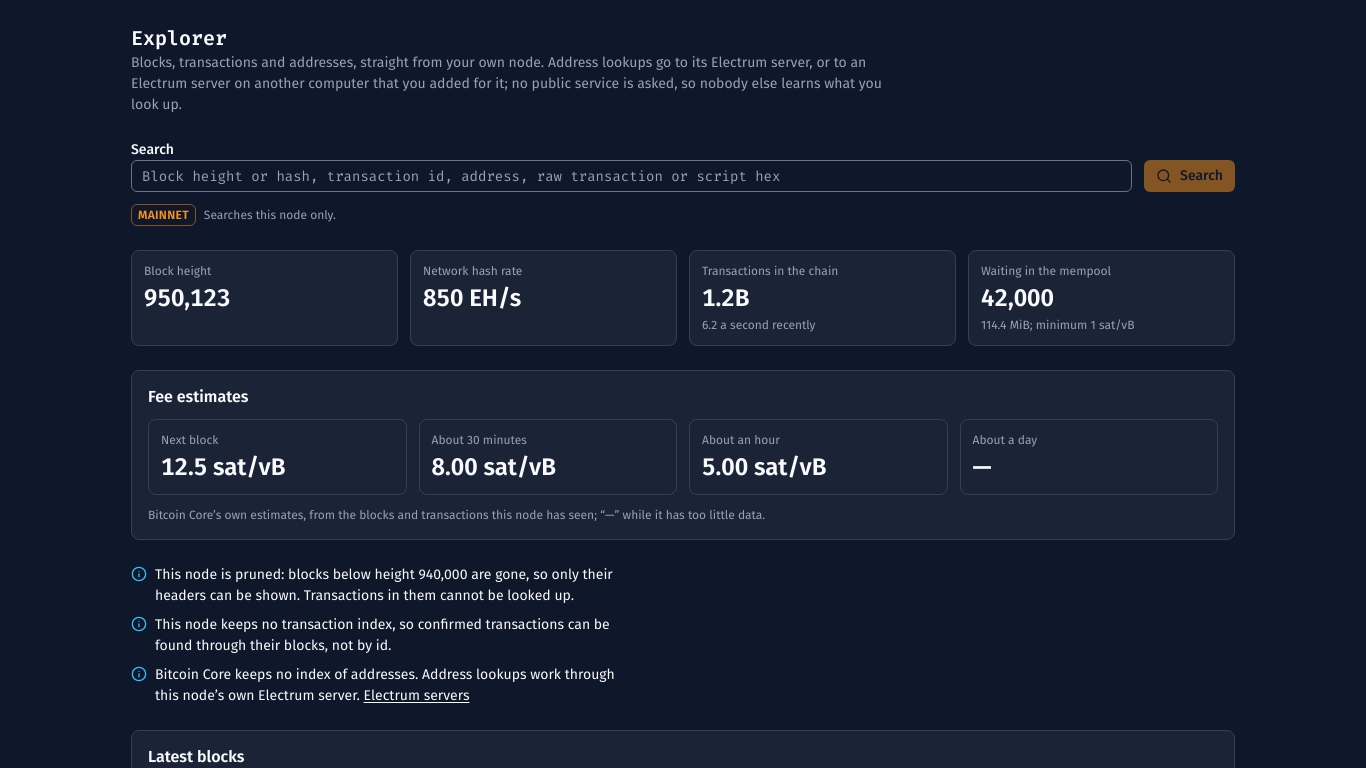
Explorer › checks a pasted raw transaction without broadcasting it
In the field labelled "Search": [632, 176] box top-left (131, 160), bottom-right (1132, 192), type "0200000001"
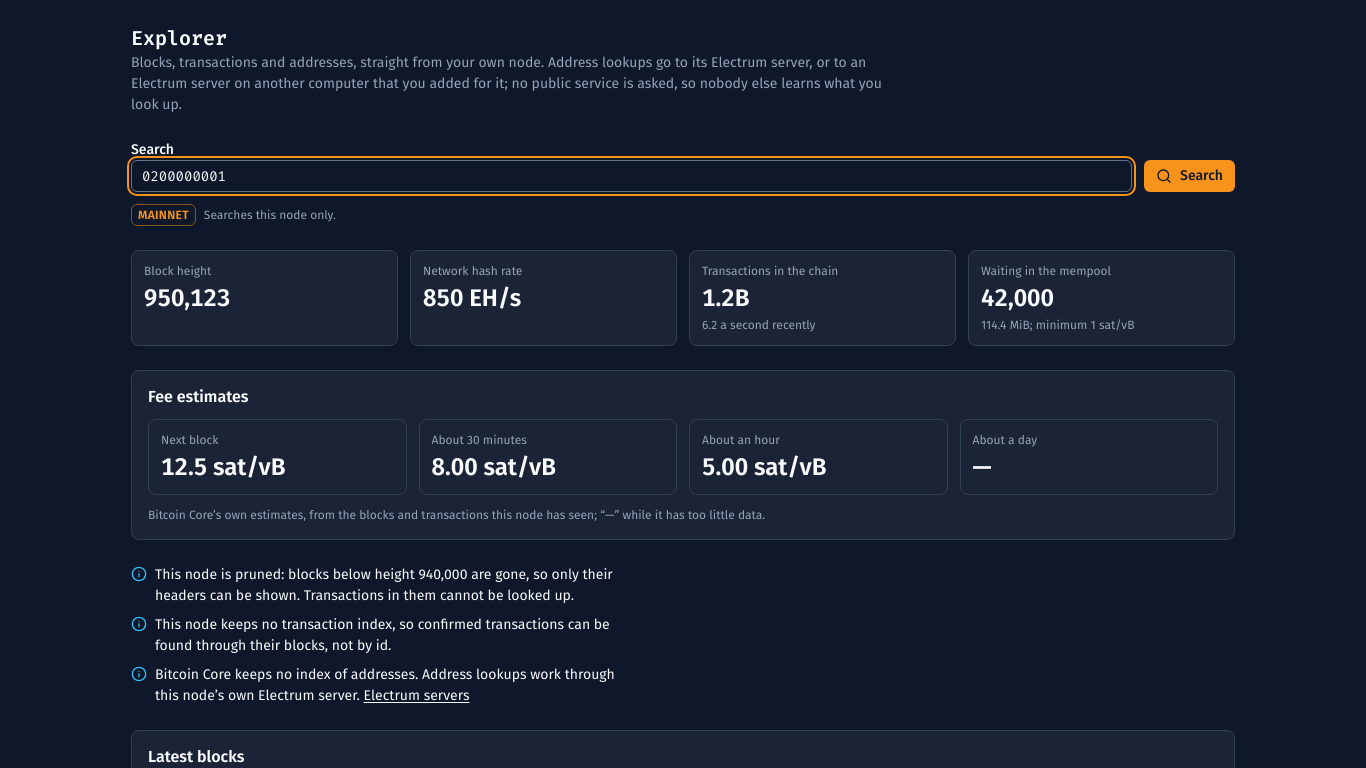
Click the button "Search": [1190, 176] box top-left (1144, 160), bottom-right (1235, 192)
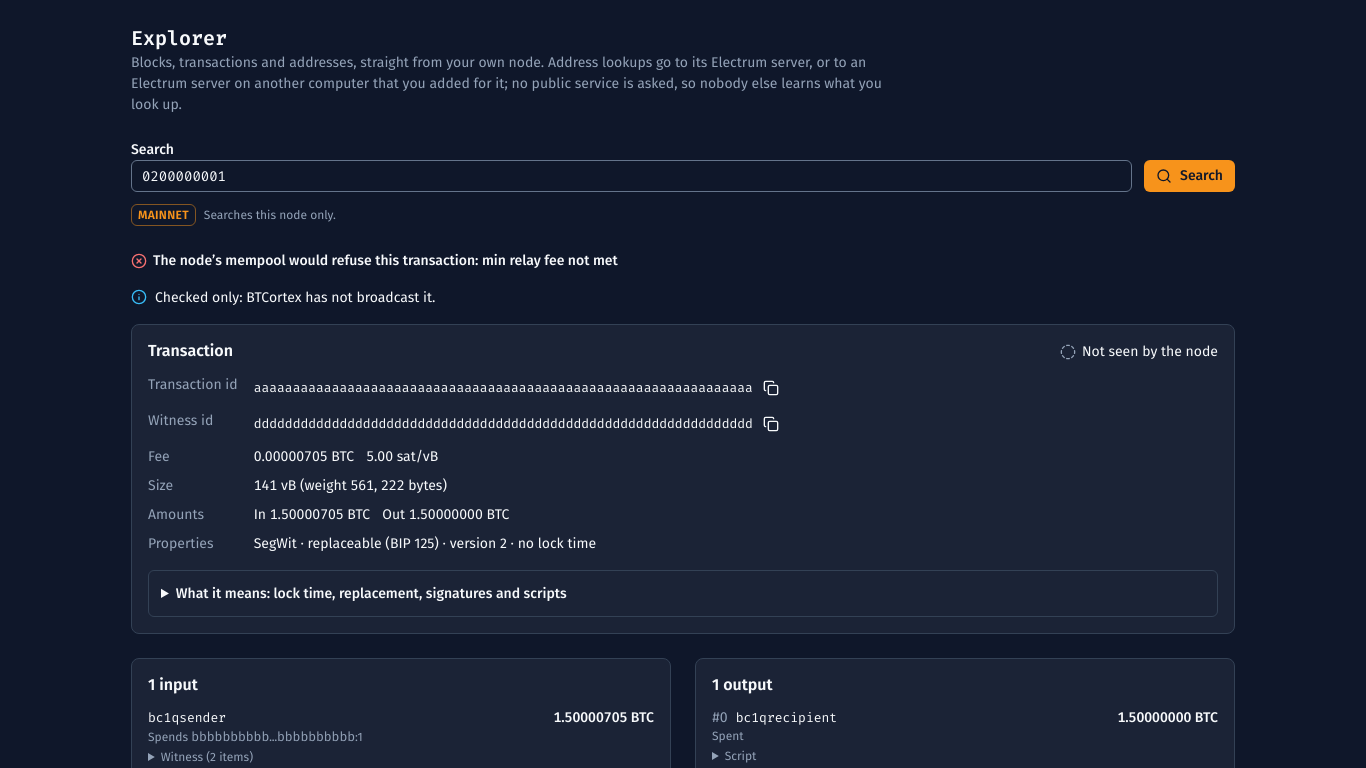
Check: the text "The node’s mempool would refuse this transaction: min relay fee not met" is shown, box top-left (153, 250), bottom-right (618, 271)
Check: the text "Checked only: BTCortex has not broadcast it." is shown, box top-left (155, 287), bottom-right (436, 308)
